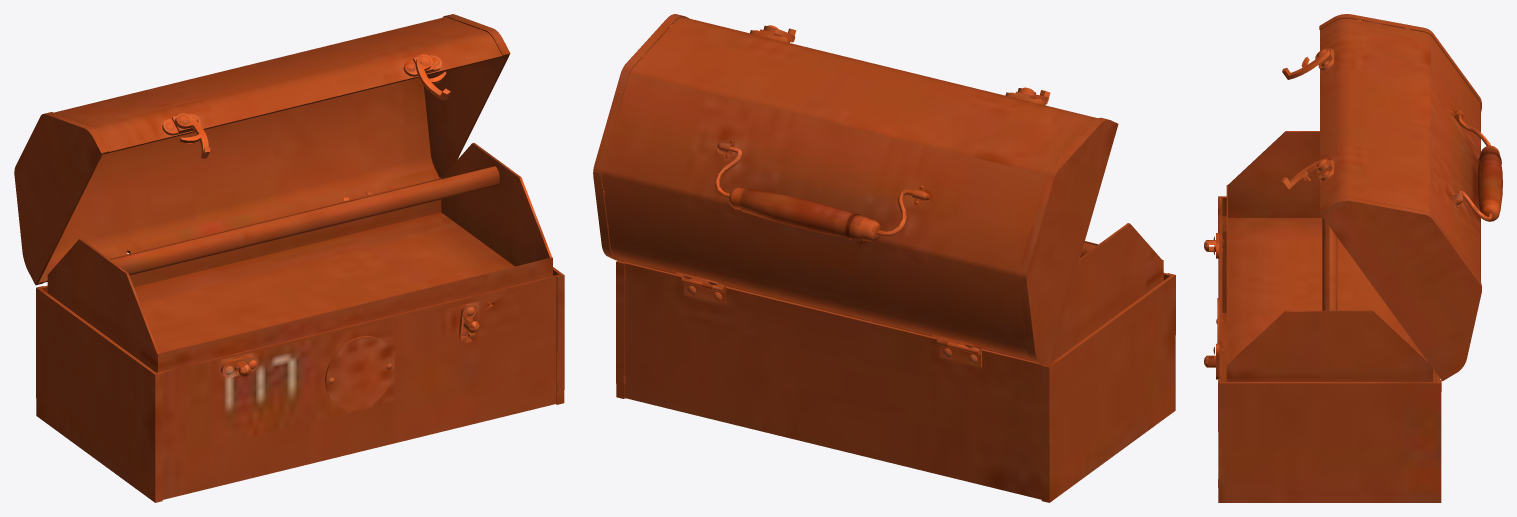
File: toolbox.glb
3 renders of one model, left to right at view 1: azimuth 30°, elevation 25°; view 2: azimuth 150°, elevation 25°; view 3: azimuth 270°, elevation 25°, orthographic. The views are drawn at different scales.
Visible parts, largest first — view 1: toolbox; view 2: toolbox; view 3: toolbox.
Part boxes in pixels (<box>): toolbox: <box>14,14,564,502</box>; toolbox: <box>593,14,1175,502</box>; toolbox: <box>1204,14,1502,502</box>.
Size of the model in its own units: 0.46 by 0.3504 by 0.3111.
1 material, 1 textured.
